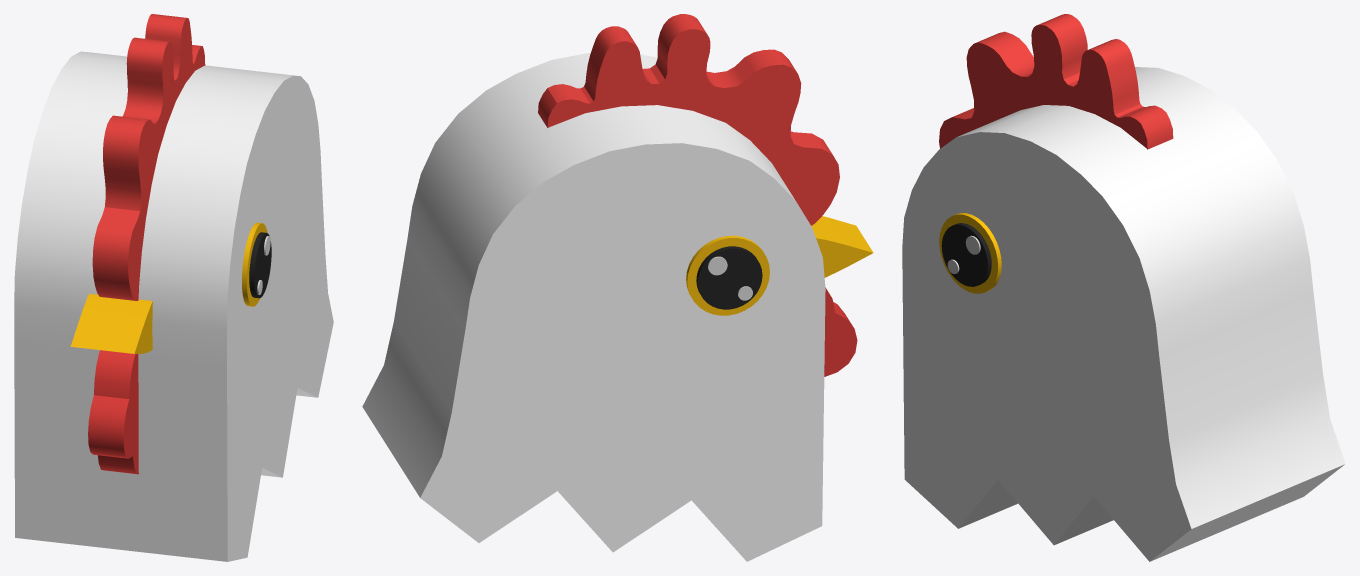
Rendered from chicken.glb.
3 renders of one model, left to right at view 1: azimuth 30°, elevation 25°; view 2: azimuth 150°, elevation 25°; view 3: azimuth 270°, elevation 25°, orthographic. The views are drawn at different scales.
Parts seen in each view (by area): view 1: Cube.6274; view 2: Cube.6274; view 3: Cube.6274.
Boxes of the visible parts, bbox=[...] form: Cube.6274: bbox=[14, 14, 333, 561]; Cube.6274: bbox=[362, 14, 873, 561]; Cube.6274: bbox=[902, 14, 1345, 561].
Size of the model in its own units: 1.65 by 2 by 1.65.
1 material, 1 textured.
